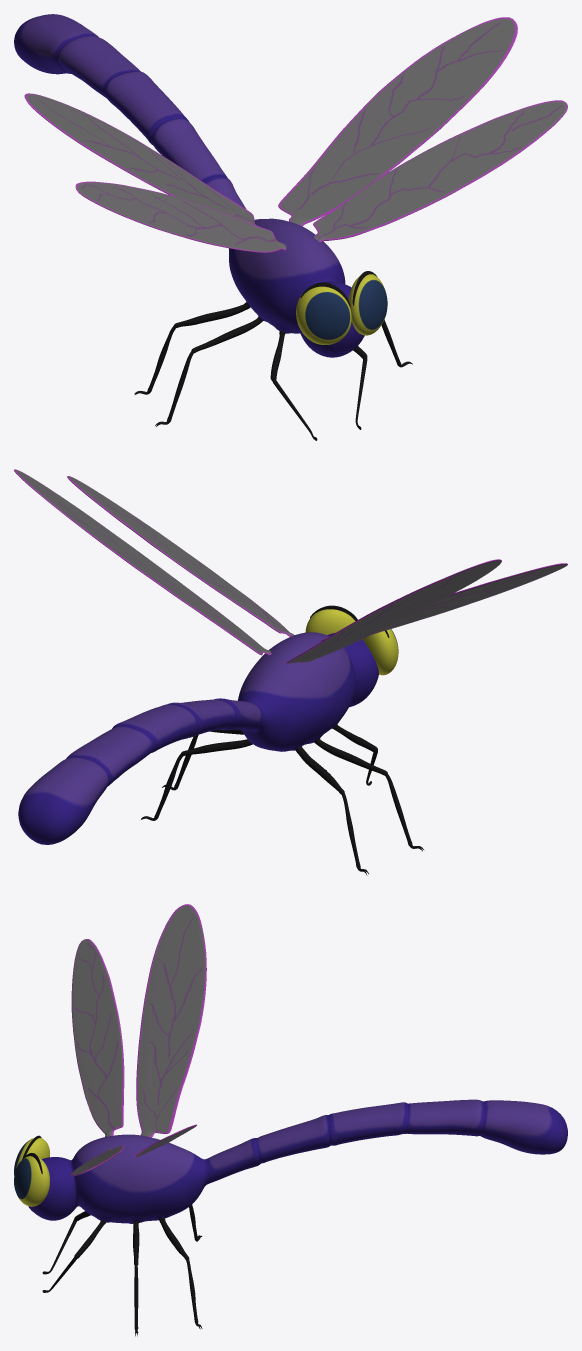
Rendered from insect.glb.
3 views of the same model, one above another, from view 1: azimuth 30°, elevation 25°; view 2: azimuth 150°, elevation 25°; view 3: azimuth 270°, elevation 25° (orthographic). The views are drawn at different scales.
Parts seen in each view (by area): view 1: mesh_id28; view 2: mesh_id28; view 3: mesh_id28.
Part boxes in pixels (x1,y1,x2,y2): mesh_id28: (14,14,567,440); mesh_id28: (14,469,567,875); mesh_id28: (14,904,567,1336).
Size of the model in its own units: 0.512 by 0.3322 by 0.5867.
Materials: 1 (1 with a texture image).
